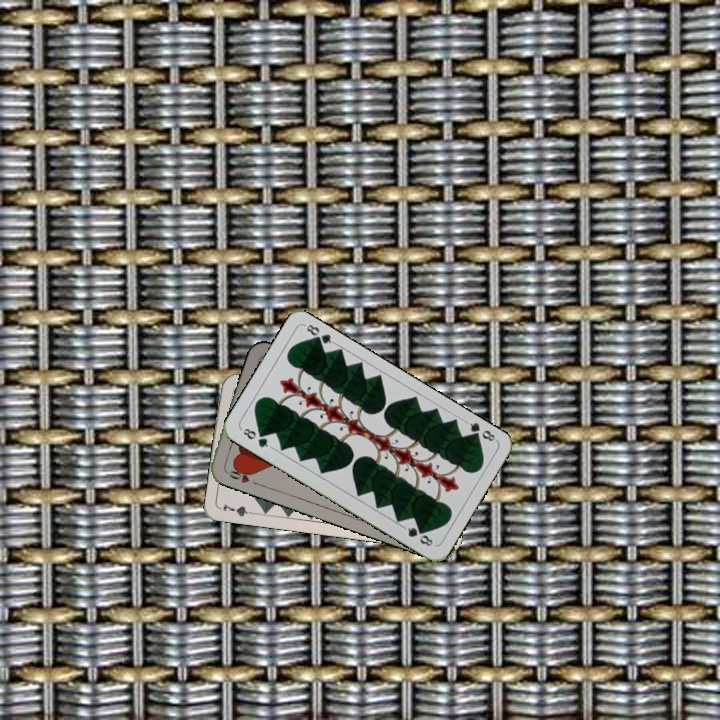G7: (219, 499, 259, 519)
G8: (462, 417, 499, 444), (237, 424, 274, 450)
HO: (222, 463, 261, 488)
